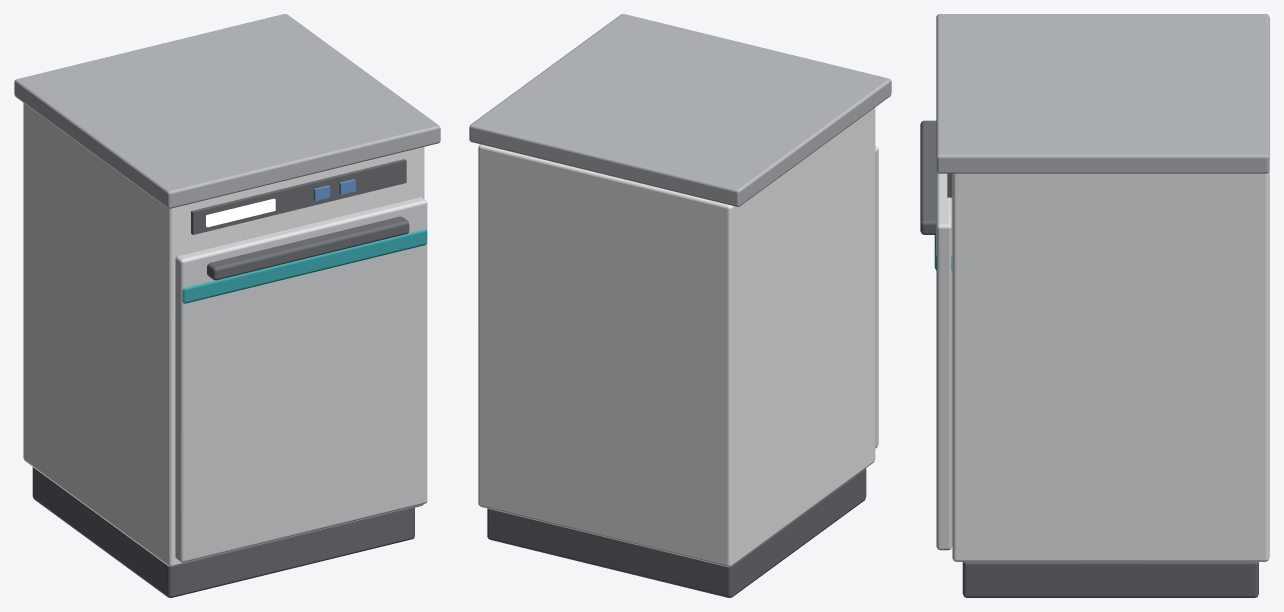
The model's file is Instrument Washer (Dental Practice and Surgery).glb.
3 views of the same model, side by side, from view 1: azimuth 30°, elevation 25°; view 2: azimuth 150°, elevation 25°; view 3: azimuth 270°, elevation 25° (orthographic). The views are drawn at different scales.
Parts seen in each view (by area): view 1: instrument-washer, washer-door/steel, washer-door/teal, washer-door/dark; view 2: instrument-washer, washer-door/steel; view 3: instrument-washer, washer-door/steel, washer-door/dark.
Part boxes in pixels (left/top/right/bottom): instrument-washer: left=14, top=14, right=440, bottom=597; washer-door/steel: left=175, top=197, right=427, bottom=562; washer-door/teal: left=182, top=229, right=427, bottom=303; washer-door/dark: left=207, top=216, right=409, bottom=280; instrument-washer: left=469, top=14, right=891, bottom=597; washer-door/steel: left=875, top=146, right=878, bottom=448; instrument-washer: left=936, top=14, right=1269, bottom=597; washer-door/steel: left=936, top=171, right=952, bottom=550; washer-door/dark: left=920, top=120, right=936, bottom=234.
Bounding box in the file's own units: 0.64 × 0.94 × 0.66.
